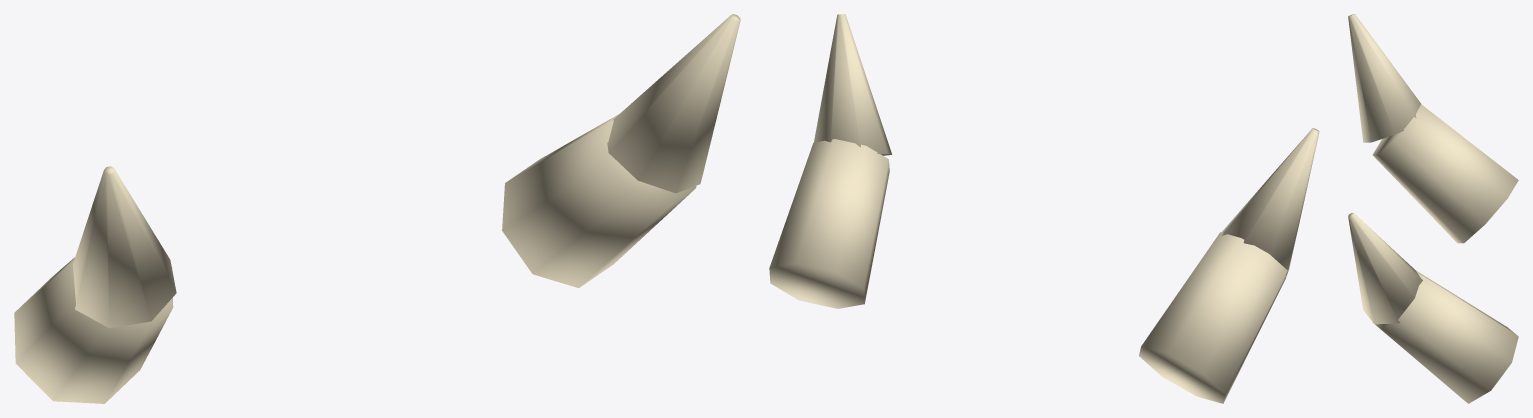
The model's file is race_tusks_troll.glb.
3 views of the same model, side by side, from view 1: azimuth 30°, elevation 25°; view 2: azimuth 150°, elevation 25°; view 3: azimuth 270°, elevation 25° (orthographic). The views are drawn at different scales.
Visible parts, largest first — view 1: race_tusks_troll; view 2: race_tusks_troll; view 3: race_tusks_troll.
Boxes of the visible parts, x1,y1,x2,y2 form: race_tusks_troll: [14, 14, 740, 403]; race_tusks_troll: [769, 14, 1319, 403]; race_tusks_troll: [1348, 14, 1518, 403].
Size of the model in its own units: 0.5276 by 0.2486 by 0.1874.
